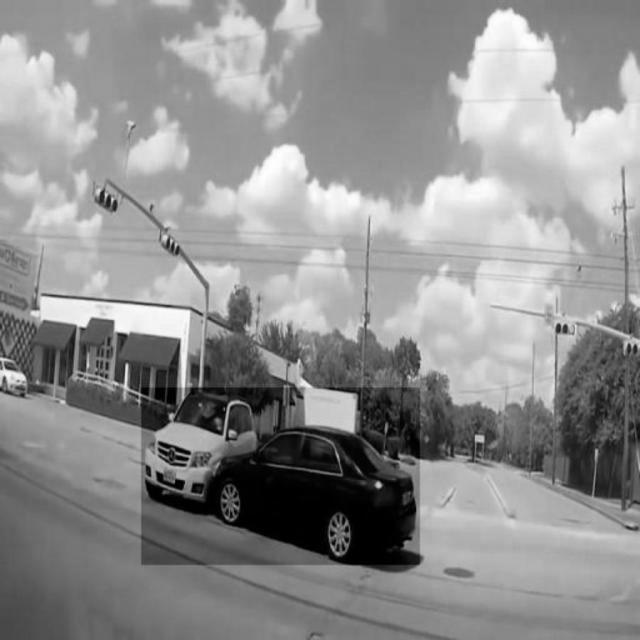accident: (142, 388, 420, 565)
